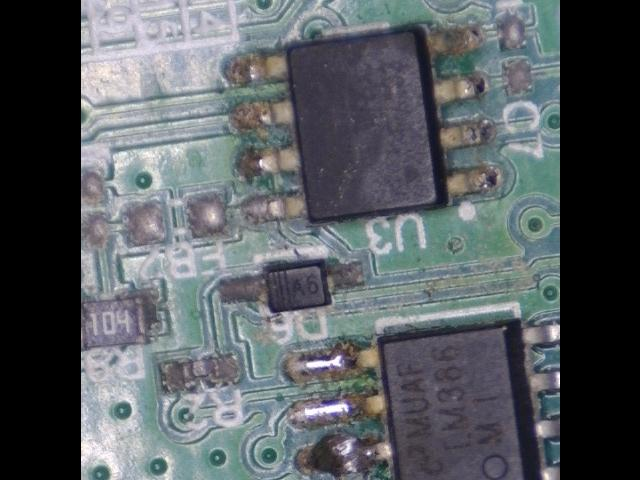Incorrect_installation: (81, 290, 160, 350)
